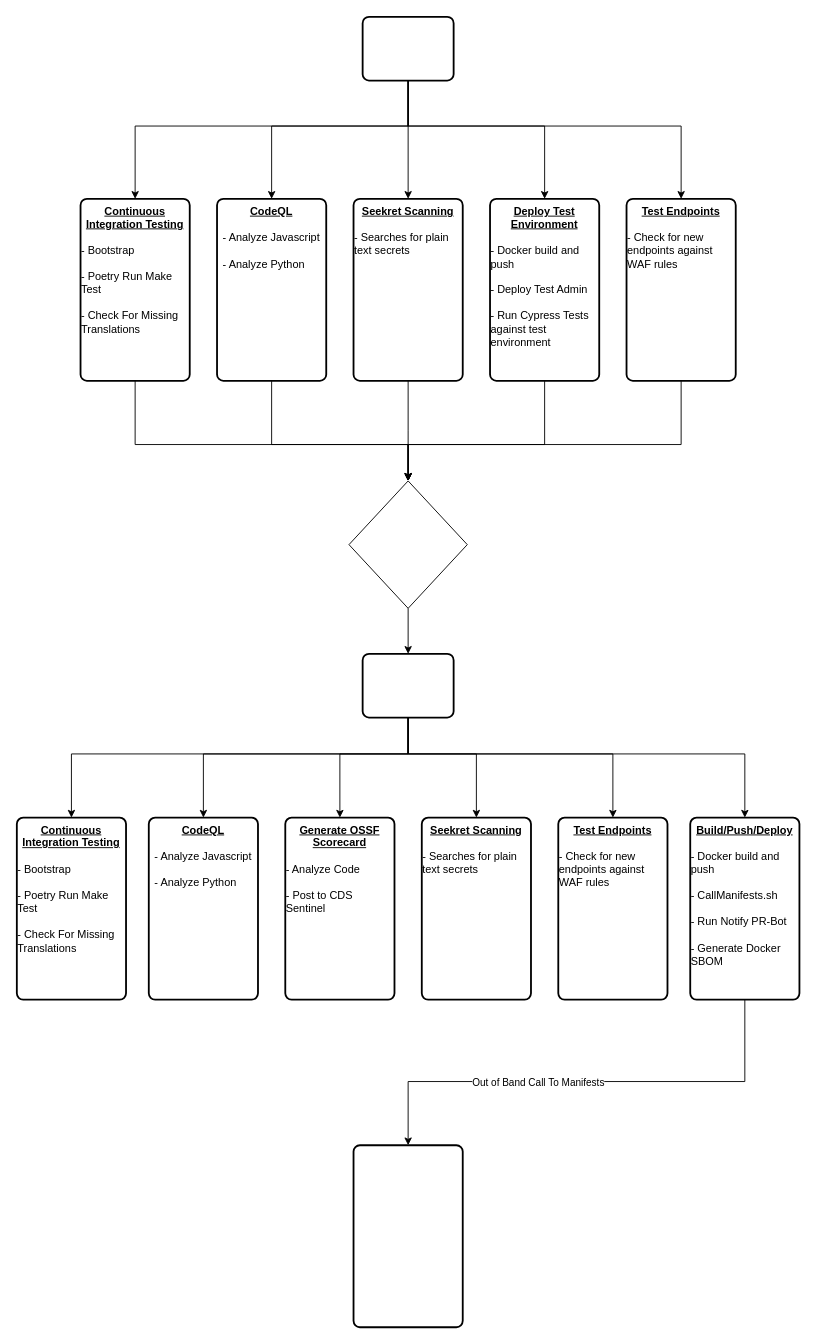
This 815x1343 diagram has some shape labels left out. The centre of each missing label's shape, as x and y in pixels:
"MANIFESTS - Rollout Admin - Kubectl set image to docker tag" goes at pixel 407 1236.
"Merge To Main" goes at pixel 407 685.
"Pull Request" goes at pixel 407 48.
"Tests Passed and Approved?" goes at pixel 407 544.
